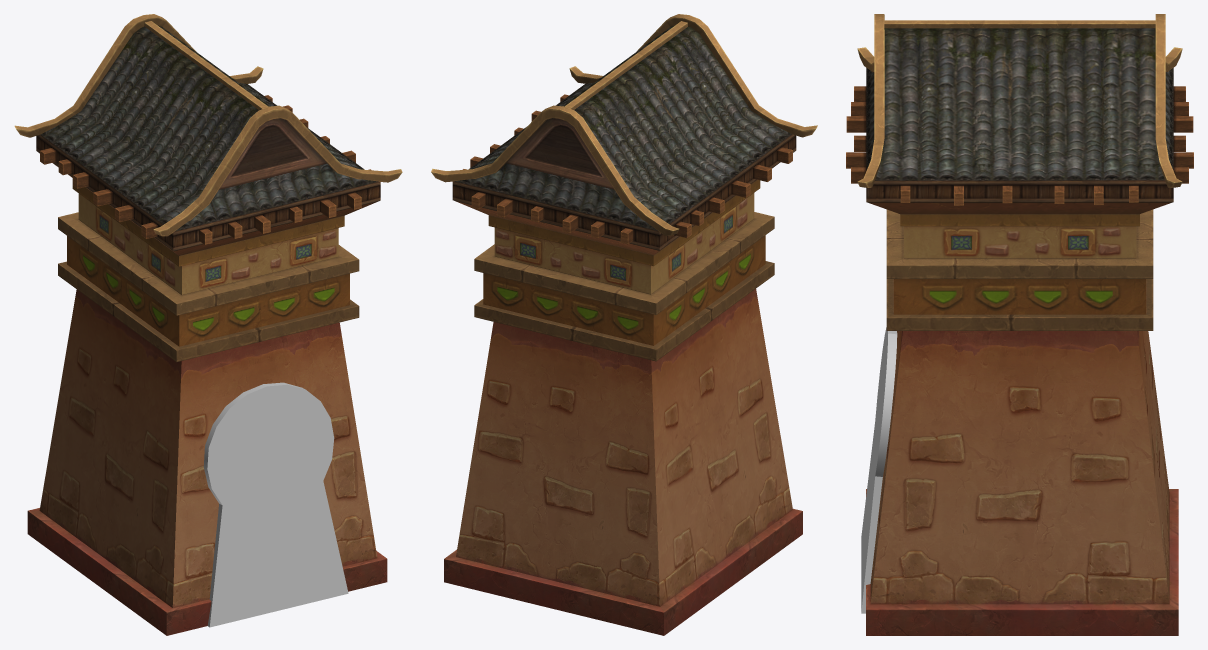
The model's file is SV_BUD_desert_talou_0.FBX.
3 renders of one model, left to right at view 1: azimuth 30°, elevation 25°; view 2: azimuth 150°, elevation 25°; view 3: azimuth 270°, elevation 25°, orthographic. The views are drawn at different scales.
Visible parts, largest first — view 1: SV_BUD_desert_talou_0_ding, SV_BUD_desert_talou_0_qiang, SV_BUD_desert_talou_0_men; view 2: SV_BUD_desert_talou_0_qiang, SV_BUD_desert_talou_0_ding; view 3: SV_BUD_desert_talou_0_ding, SV_BUD_desert_talou_0_qiang, SV_BUD_desert_talou_0_men.
Part boxes in pixels (left/top/right/bottom): SV_BUD_desert_talou_0_ding: left=14, top=14, right=402, bottom=362; SV_BUD_desert_talou_0_qiang: left=27, top=289, right=387, bottom=635; SV_BUD_desert_talou_0_men: left=203, top=382, right=348, bottom=627; SV_BUD_desert_talou_0_qiang: left=444, top=289, right=802, bottom=635; SV_BUD_desert_talou_0_ding: left=431, top=14, right=817, bottom=361; SV_BUD_desert_talou_0_ding: left=846, top=14, right=1193, bottom=330; SV_BUD_desert_talou_0_qiang: left=866, top=331, right=1178, bottom=635; SV_BUD_desert_talou_0_men: left=861, top=327, right=897, bottom=613.
Size of the model in its own units: 4.89 by 9.35 by 5.29.
